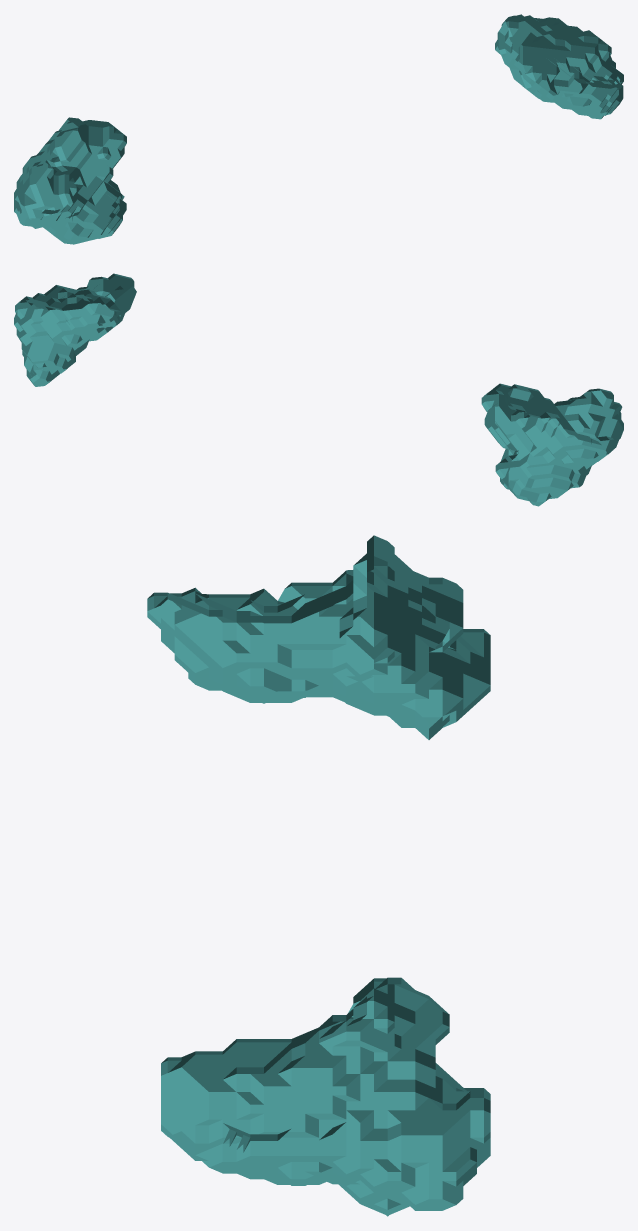
The model's file is region_0103_P__posterior_thalamic_nucleus_.glb.
3 renders of one model, top to bottom at view 1: azimuth 30°, elevation 25°; view 2: azimuth 150°, elevation 25°; view 3: azimuth 270°, elevation 25°, orthographic. The views are drawn at different scales.
Visible parts, largest first — view 1: world; view 2: world; view 3: world.
Boxes of the visible parts, bbox=[...] form: world: bbox=[14, 14, 623, 244]; world: bbox=[14, 273, 623, 506]; world: bbox=[147, 535, 490, 1216].
Bounding box in the file's own units: 0.784 × 0.128 × 0.2.
